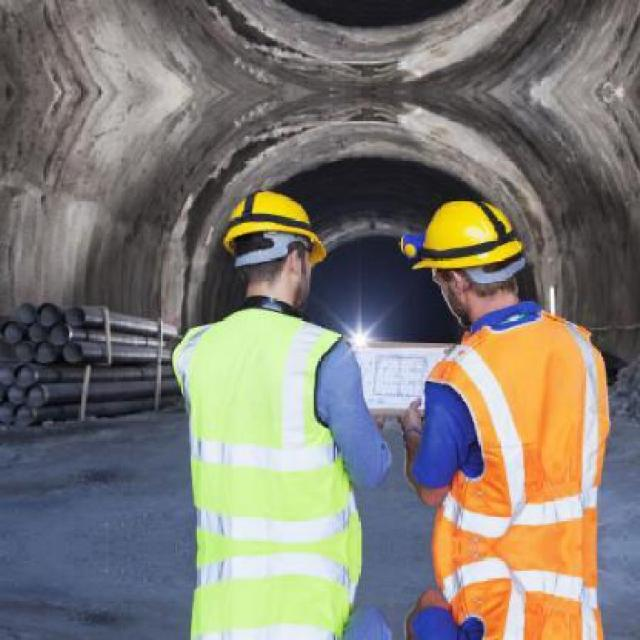Reflective-Jacket: (163, 308, 363, 543), (420, 312, 615, 548)
Safety-Helmet: (396, 192, 544, 288), (212, 185, 332, 277)
